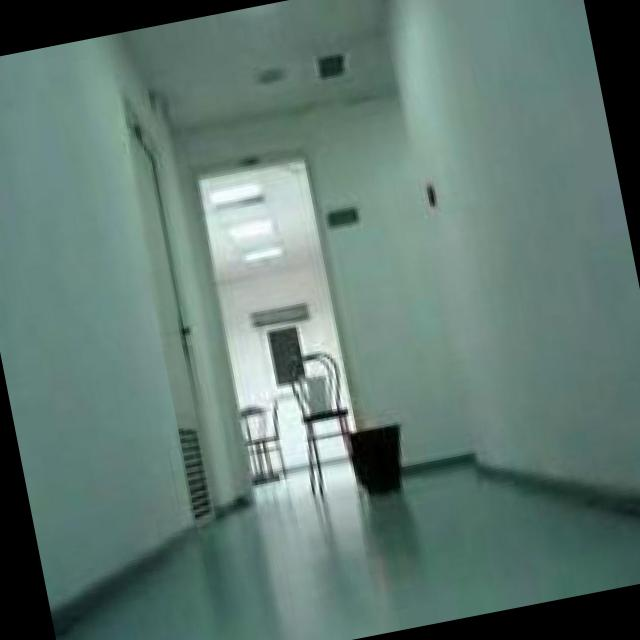Fire: (341, 413, 364, 434)
